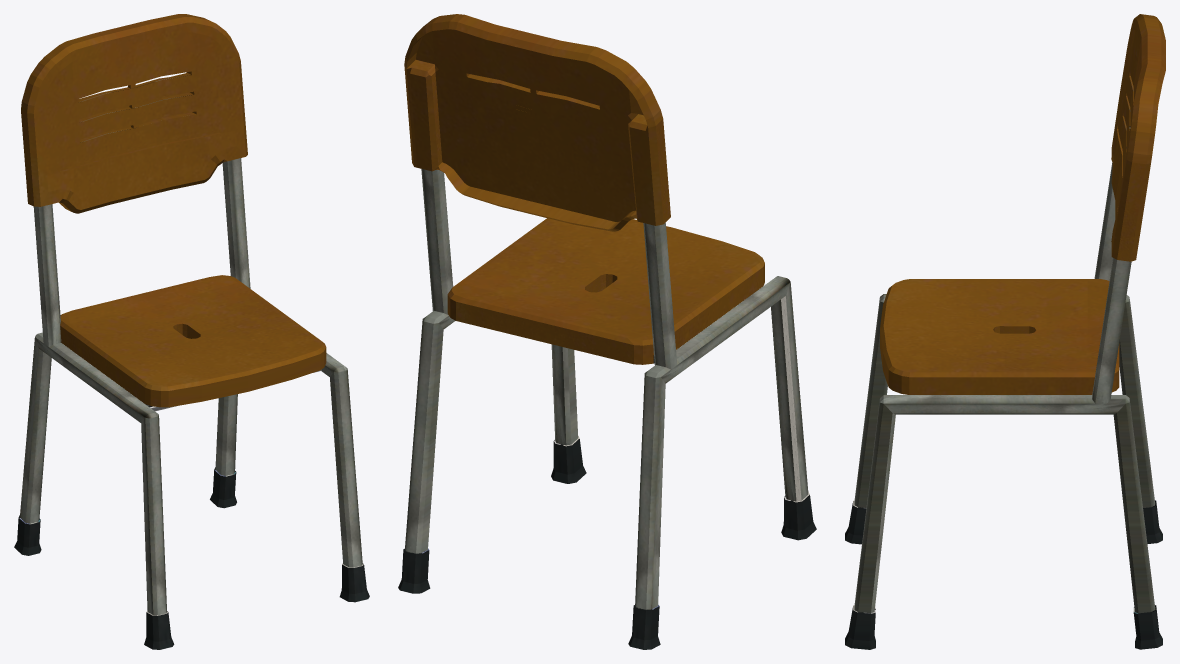
File: Chair.fbx
3 renders of one model, left to right at view 1: azimuth 30°, elevation 25°; view 2: azimuth 150°, elevation 25°; view 3: azimuth 270°, elevation 25°, orthographic. The views are drawn at different scales.
Parts seen in each view (by area): view 1: Cube.001; view 2: Cube.001; view 3: Cube.001.
Part boxes in pixels (box(x1,y1,x2,y2)): Cube.001: box(14, 14, 369, 649); Cube.001: box(398, 14, 816, 649); Cube.001: box(845, 14, 1165, 649).
Size of the model in its own units: 187 by 409 by 218.
Materials: 1 (1 with a texture image).
